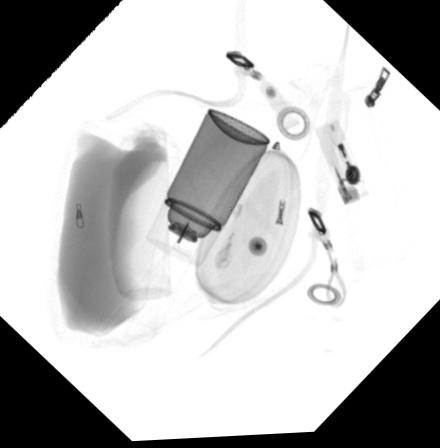Lighter: (314, 121, 369, 209)
Sprayer: (143, 111, 271, 269)
